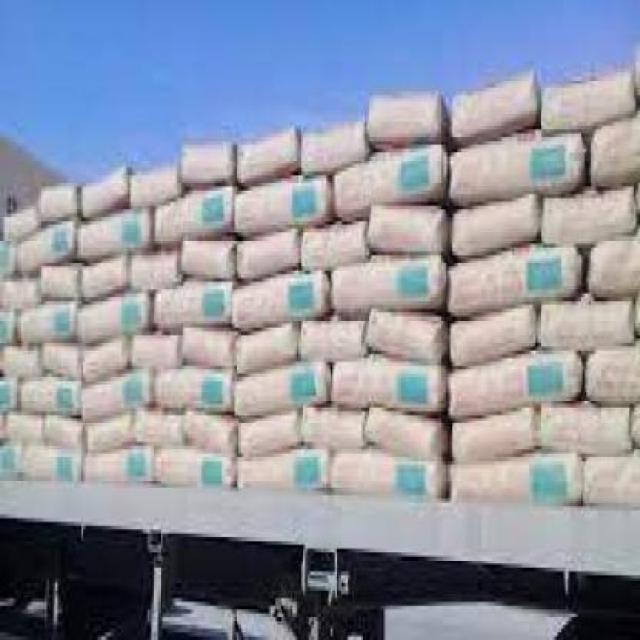gunny_bag: (447, 241, 579, 322), (446, 354, 585, 421), (450, 133, 580, 200), (333, 148, 450, 216), (449, 452, 587, 502), (449, 65, 537, 141), (540, 178, 639, 244), (332, 363, 447, 416), (232, 167, 330, 229), (234, 268, 331, 329), (332, 257, 444, 308), (450, 195, 539, 257), (331, 449, 446, 495), (234, 359, 328, 413), (447, 406, 540, 459), (537, 405, 633, 456), (76, 203, 152, 267), (364, 306, 449, 362), (151, 276, 236, 330), (152, 187, 232, 244), (448, 311, 539, 360), (365, 403, 447, 456), (368, 94, 445, 148), (235, 224, 300, 286), (368, 203, 446, 252), (299, 213, 365, 270), (295, 117, 370, 167), (149, 446, 234, 489), (239, 449, 329, 489), (77, 292, 150, 341), (13, 217, 76, 273), (586, 232, 640, 294), (583, 448, 640, 505), (238, 324, 299, 376), (0, 444, 81, 483), (82, 378, 152, 422), (77, 329, 131, 386), (155, 373, 234, 411), (236, 129, 295, 179), (237, 411, 305, 454), (180, 137, 236, 189), (80, 446, 156, 481), (177, 237, 236, 281), (20, 383, 83, 424), (80, 167, 129, 219), (129, 160, 178, 211), (133, 327, 185, 375), (79, 257, 132, 302), (299, 317, 363, 354), (131, 249, 182, 294), (182, 408, 236, 449), (185, 325, 234, 370), (17, 303, 75, 341), (303, 408, 365, 443), (81, 413, 138, 448), (37, 181, 77, 225), (40, 260, 81, 302), (38, 341, 84, 378), (4, 205, 39, 249), (135, 410, 180, 444), (0, 343, 42, 379), (0, 410, 44, 444), (0, 273, 39, 311), (42, 416, 84, 451), (0, 308, 18, 341), (0, 384, 18, 417)
